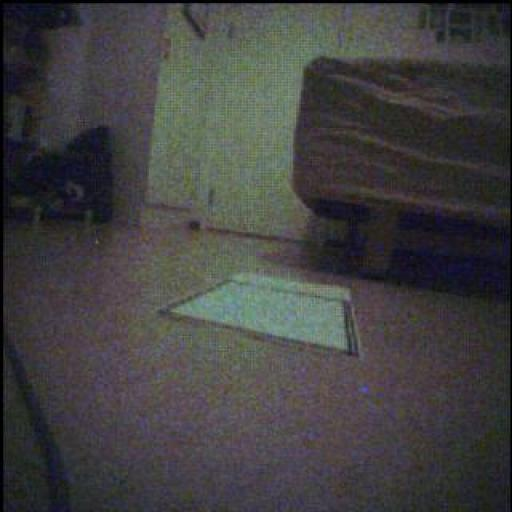pad: (163, 275, 361, 356)
